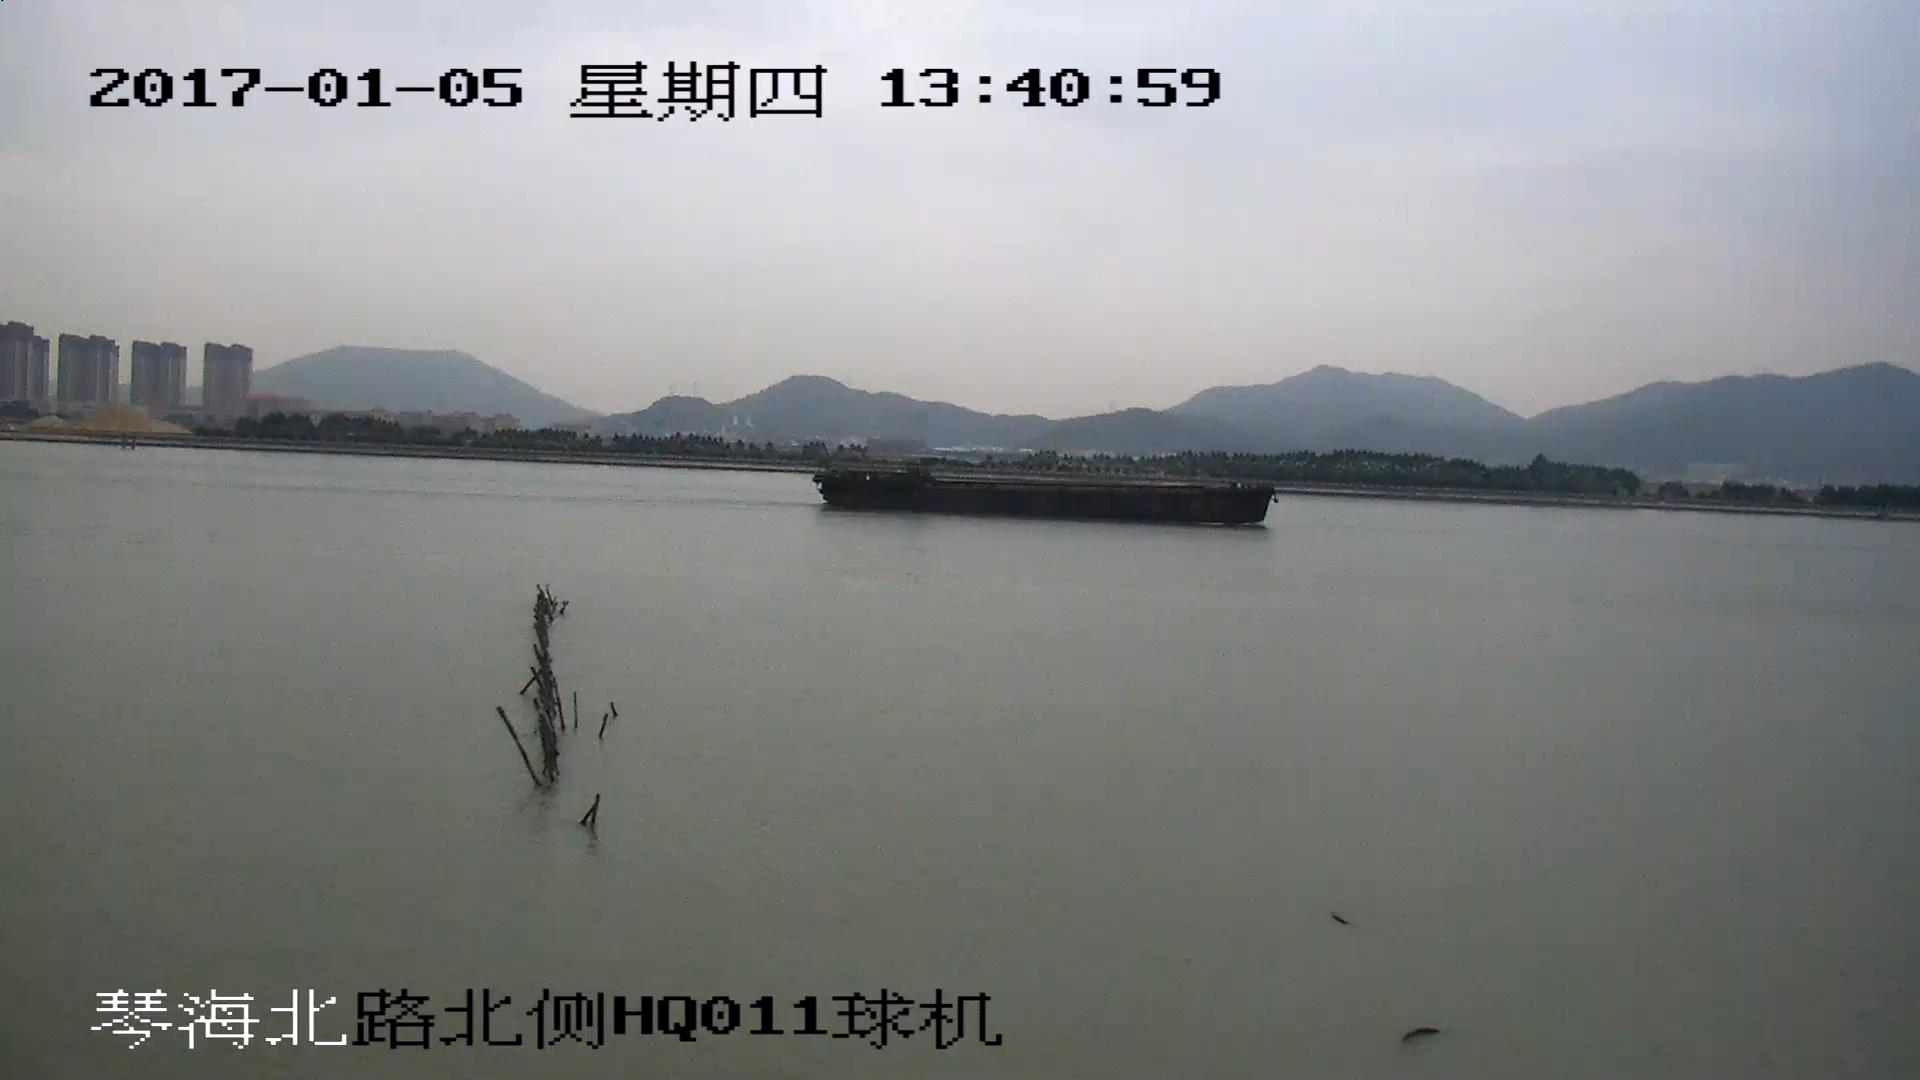bulk cargo carrier: (812, 463, 1276, 521)
